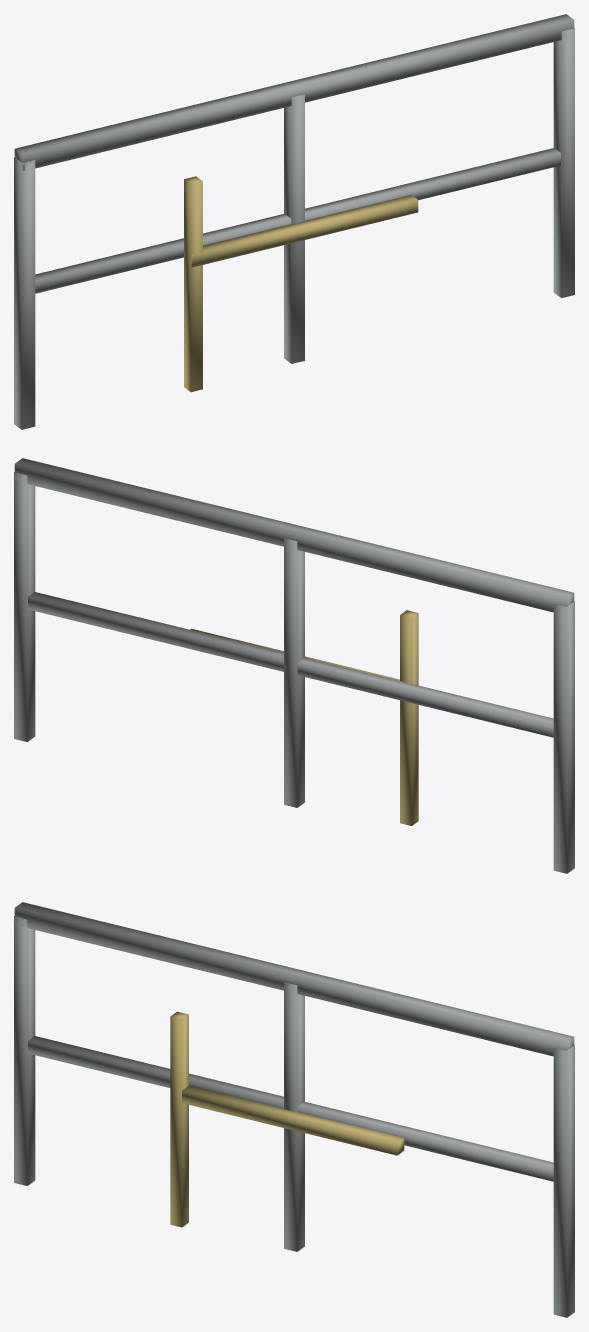
File: residential_gate_l180_h85.glb
The picture shows the model from 3 angles, top to bottom: view 1: azimuth 30°, elevation 25°; view 2: azimuth 150°, elevation 25°; view 3: azimuth 330°, elevation 25°; orthographic projection.
Visible parts, largest first — view 1: world; view 2: world; view 3: world.
Boxes of the visible parts, left/top/right/bottom form: world: left=14, top=14, right=574, bottom=429; world: left=14, top=458, right=574, bottom=873; world: left=14, top=902, right=574, bottom=1317.
Bounding box in the file's own units: 1.85 × 0.8775 × 0.0825.
